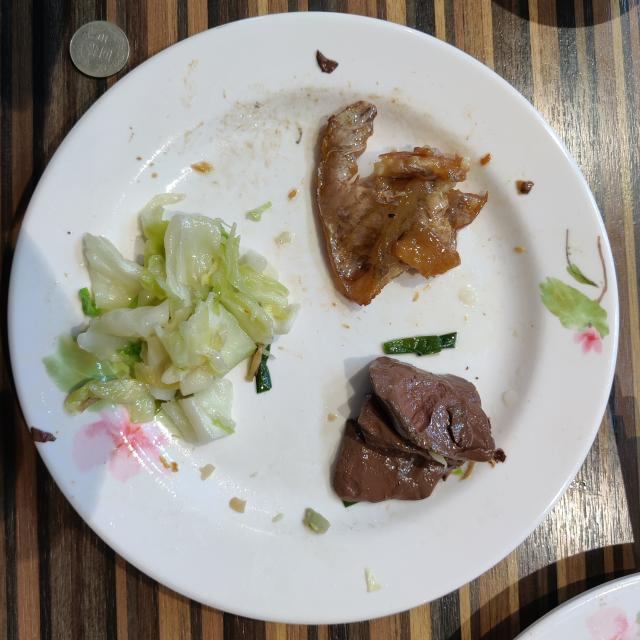Kabayaki sea bream fillet: (316, 101, 488, 305)
cabbage: (66, 192, 300, 442)
coin: (70, 21, 130, 78)
pig blood curd: (332, 358, 505, 502)
